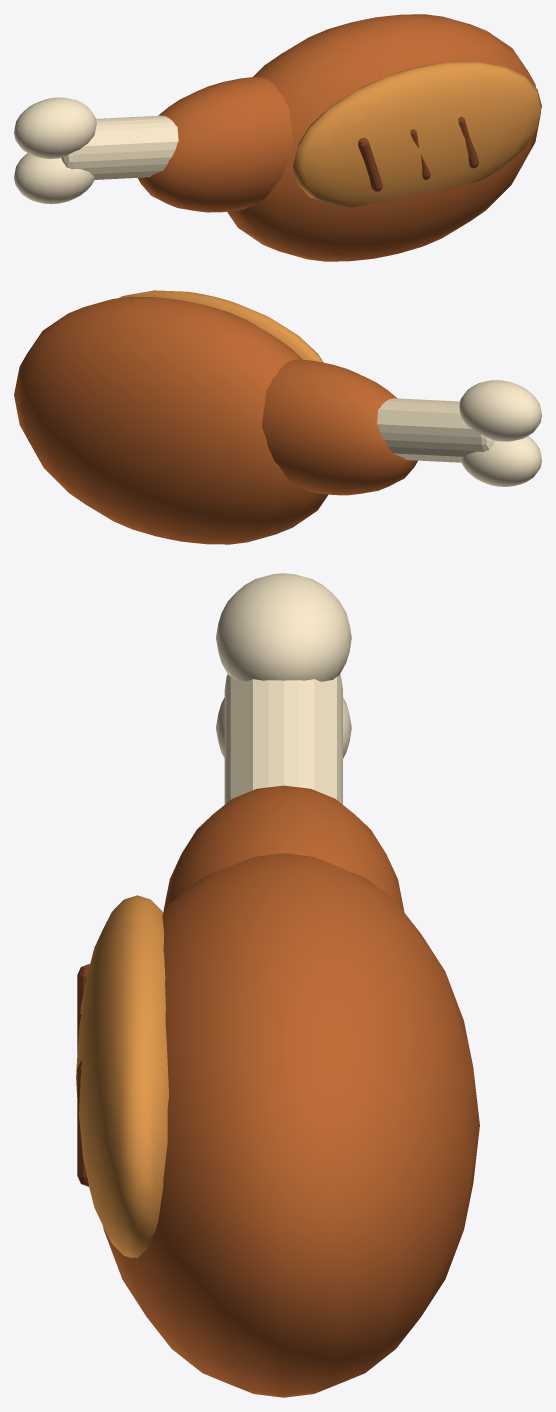
Rendered from chicken-leg.glb.
3 views of the same model, one above another, from view 1: azimuth 30°, elevation 25°; view 2: azimuth 150°, elevation 25°; view 3: azimuth 270°, elevation 25° (orthographic). The views are drawn at different scales.
Parts seen in each view (by area): view 1: Drumstick roast meat, Drumstick golden crown, Drumstick tapered neck, Chicken exposed bone, Chicken bone knuckle.001, Chicken bone knuckle, Roast crease, Roast crease.002; view 2: Drumstick roast meat, Drumstick tapered neck, Chicken exposed bone, Chicken bone knuckle.001, Chicken bone knuckle, Drumstick golden crown; view 3: Drumstick roast meat, Drumstick golden crown, Drumstick tapered neck, Chicken exposed bone, Chicken bone knuckle.001.
Part boxes in pixels (x1,y1,x2,y2): Drumstick roast meat: (227, 14, 540, 261); Drumstick golden crown: (293, 61, 541, 207); Drumstick tapered neck: (138, 76, 293, 212); Chicken exposed bone: (61, 115, 178, 179); Chicken bone knuckle.001: (14, 97, 96, 158); Chicken bone knuckle: (14, 153, 94, 204); Roast crease: (358, 137, 382, 191); Roast crease.002: (458, 116, 478, 168); Drumstick roast meat: (14, 296, 328, 544); Drumstick tapered neck: (262, 359, 417, 495); Chicken exposed bone: (377, 398, 494, 462); Chicken bone knuckle.001: (459, 380, 541, 441); Chicken bone knuckle: (461, 436, 541, 486); Drumstick golden crown: (118, 290, 323, 362); Drumstick roast meat: (103, 853, 479, 1397); Drumstick golden crown: (76, 895, 168, 1257); Drumstick tapered neck: (163, 785, 404, 911); Chicken exposed bone: (224, 674, 342, 804); Chicken bone knuckle.001: (216, 573, 351, 681).
Size of the model in its own units: 0.912 by 0.383 by 0.309.
